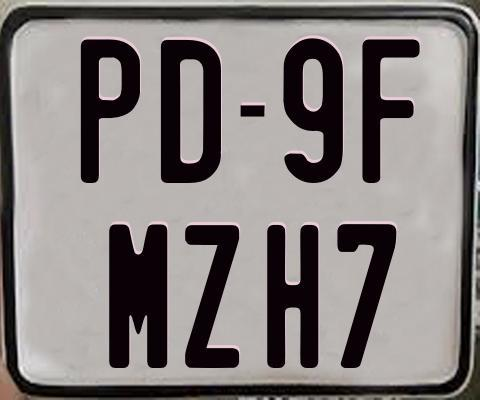7: (334, 223, 395, 372)
9: (280, 37, 345, 182)
D: (160, 37, 224, 186)
F: (361, 38, 423, 188)
H: (266, 222, 319, 368)
M: (107, 224, 167, 371)
P: (78, 39, 139, 186)
Z: (185, 224, 245, 373)
